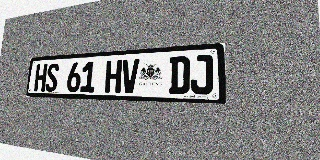1: (80, 61, 96, 92)
6: (66, 62, 82, 92)
D: (169, 56, 190, 94)
H: (105, 60, 122, 93), (34, 64, 48, 92)
J: (190, 55, 213, 95)
S: (45, 63, 59, 92)
V: (121, 59, 139, 93)
